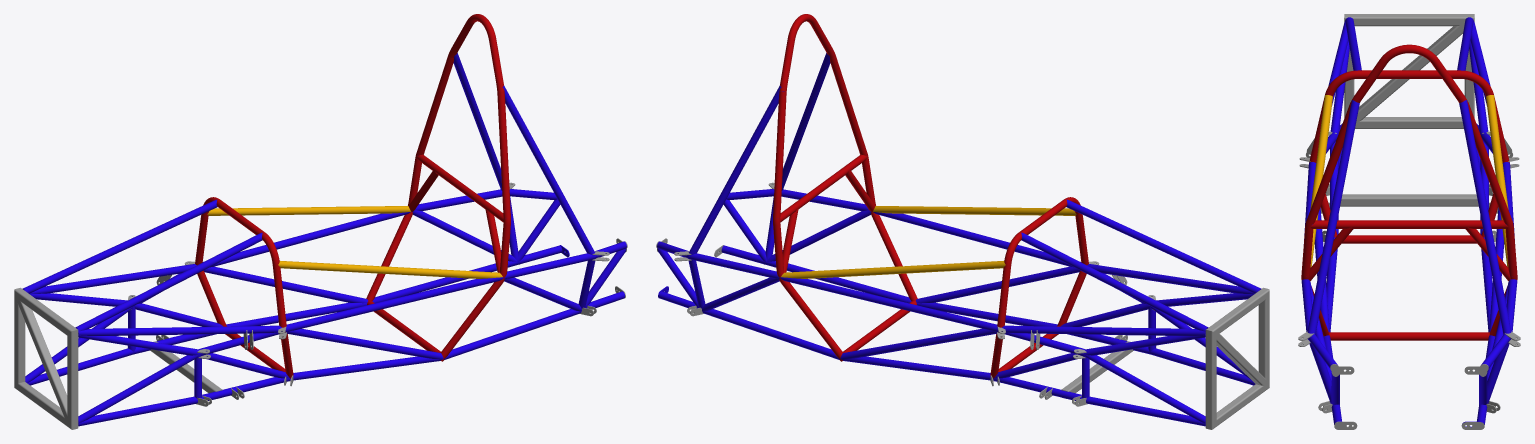
The picture shows the model from 3 angles, left to right: view 1: azimuth 30°, elevation 25°; view 2: azimuth 150°, elevation 25°; view 3: azimuth 270°, elevation 25°; orthographic projection. The views are drawn at different scales.
Visible parts, largest first — view 1: Final_chassis_June_2025_v3; view 2: Final_chassis_June_2025_v3; view 3: Final_chassis_June_2025_v3.
Boxes of the visible parts, x1=… form: Final_chassis_June_2025_v3: x1=14, y1=14, x2=627, y2=429; Final_chassis_June_2025_v3: x1=656, y1=14, x2=1269, y2=429; Final_chassis_June_2025_v3: x1=1298, y1=14, x2=1520, y2=429.
Bounding box in the file's own units: 215 × 112 × 66.61.
